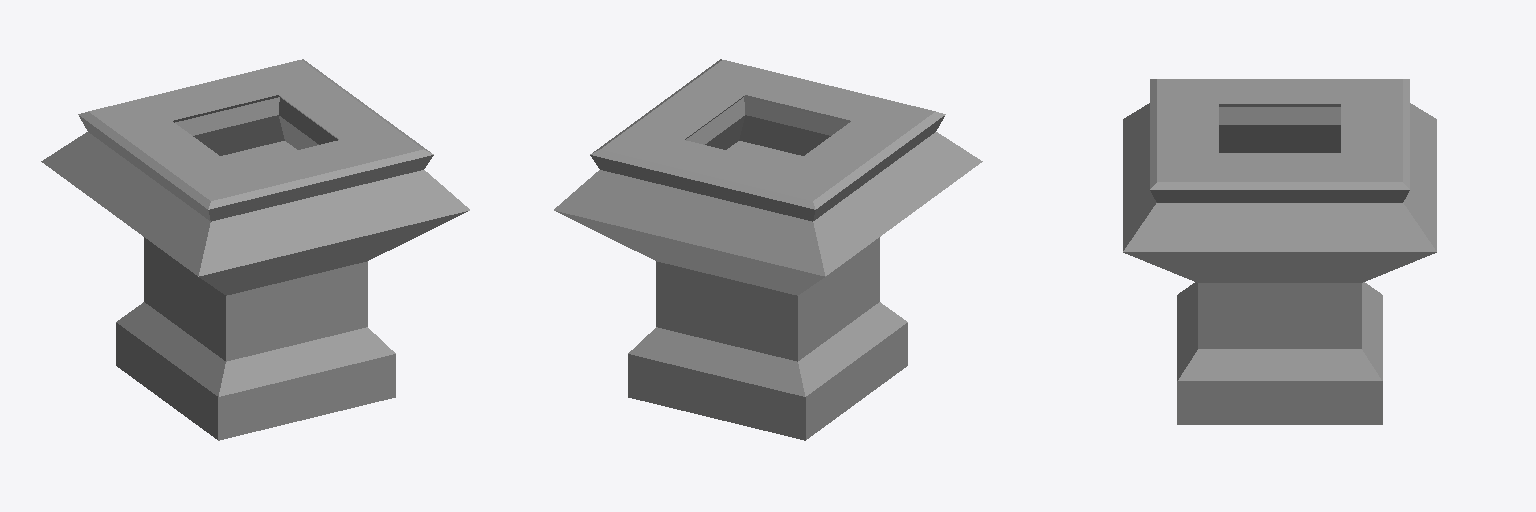
Rendered from Torch.obj.
3 renders of one model, left to right at view 1: azimuth 30°, elevation 25°; view 2: azimuth 150°, elevation 25°; view 3: azimuth 270°, elevation 25°, orthographic.
Visible parts, largest first — view 1: Cube; view 2: Cube; view 3: Cube.
Part boxes in pixels (x1,y1,x2,y2): Cube: (41, 59, 469, 440); Cube: (554, 59, 982, 440); Cube: (1123, 79, 1436, 424).
Size of the model in its own units: 3.07 by 2.7 by 3.07.